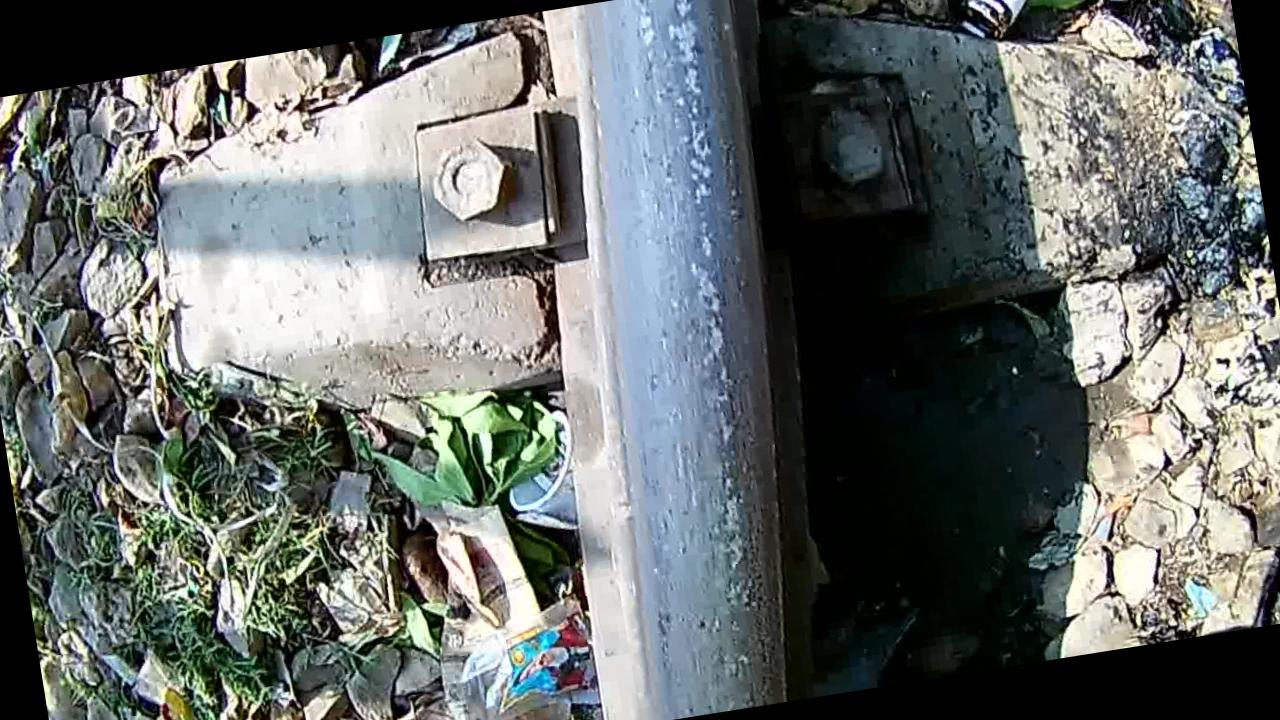clip_missing: (538, 0, 842, 720)
